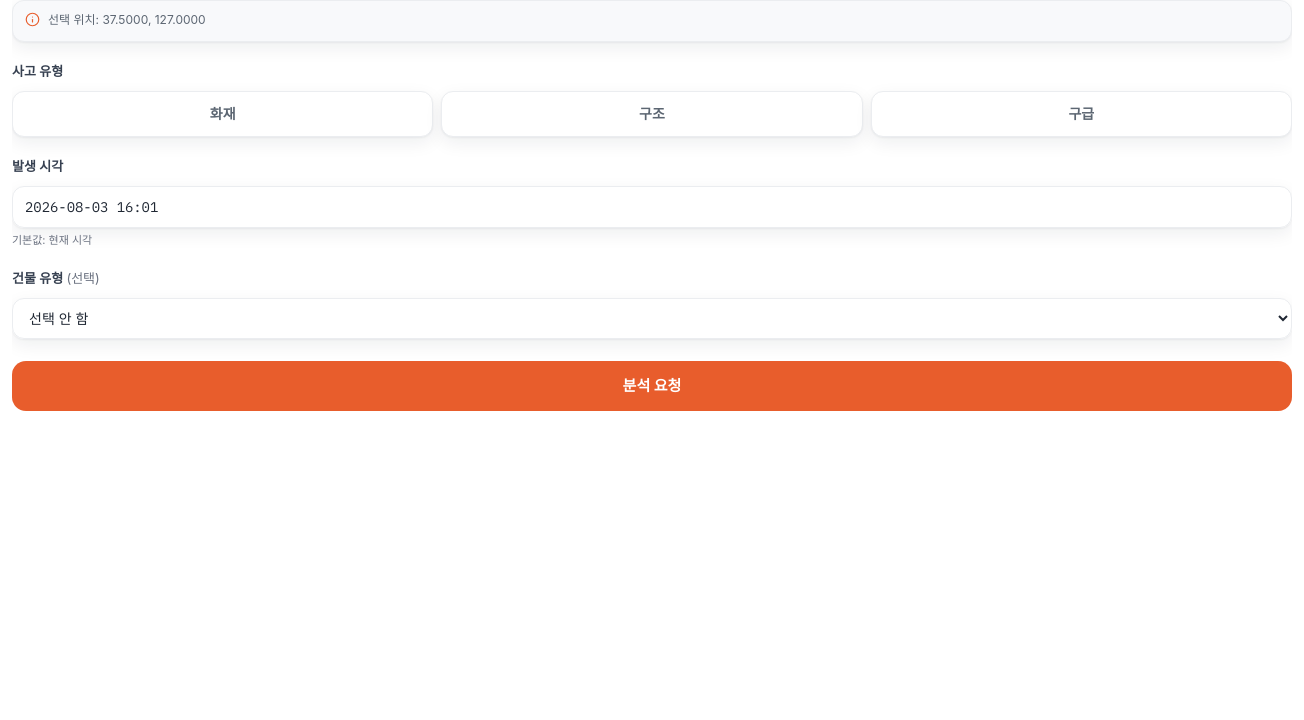
DispatchRequestForm › 사고 유형을 고르면 좌표와 유형으로 인접 출동대를 조회한다
The width and height of the screenshot is (1304, 720).
Click the button "화재" at [223, 114], box [12,91,433,137]
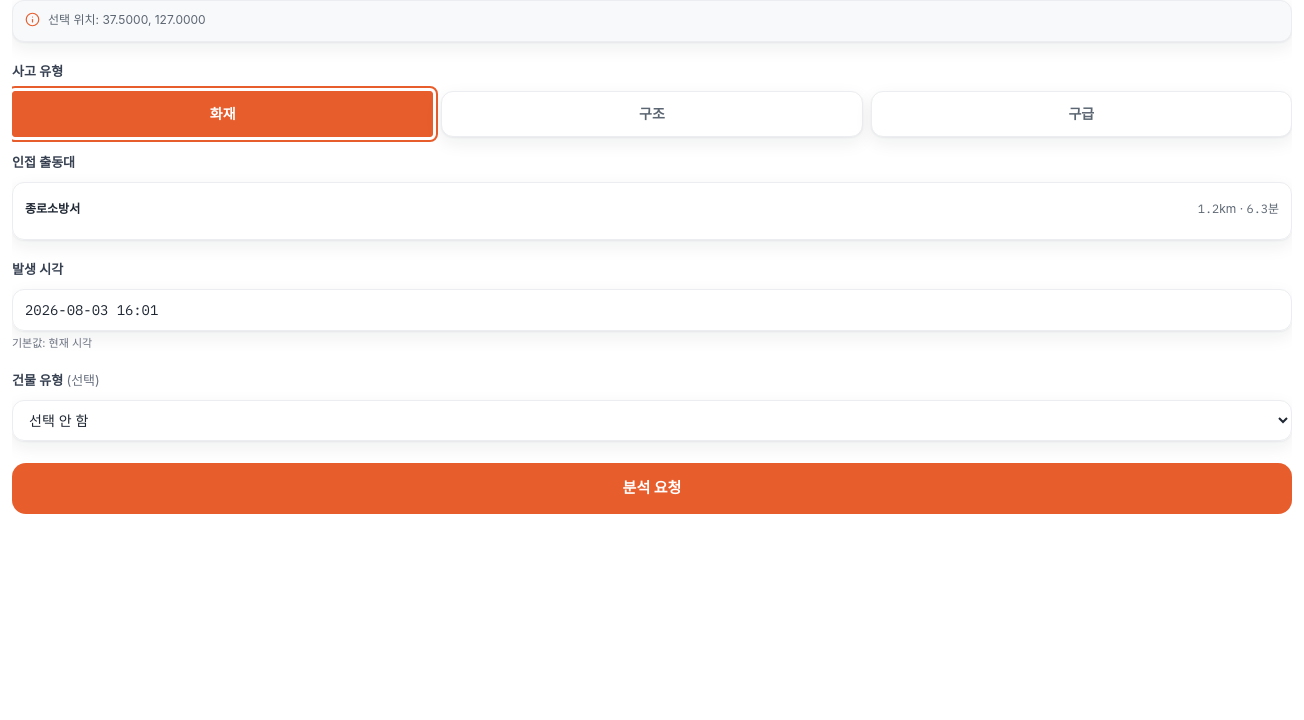
Expected: the text "종로소방서" is shown, [25,200,80,216]
Expected: the text "1.2" is shown, [1198,200,1219,216]
